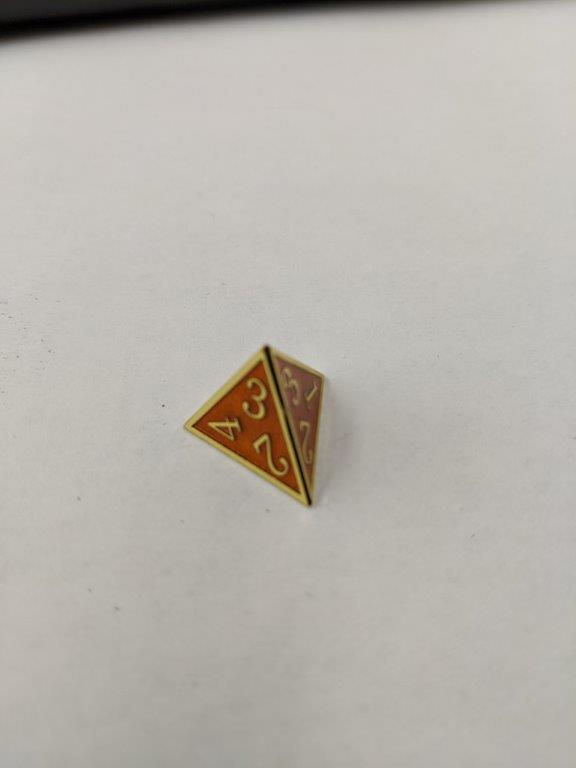d4-3: (178, 342, 330, 518)
